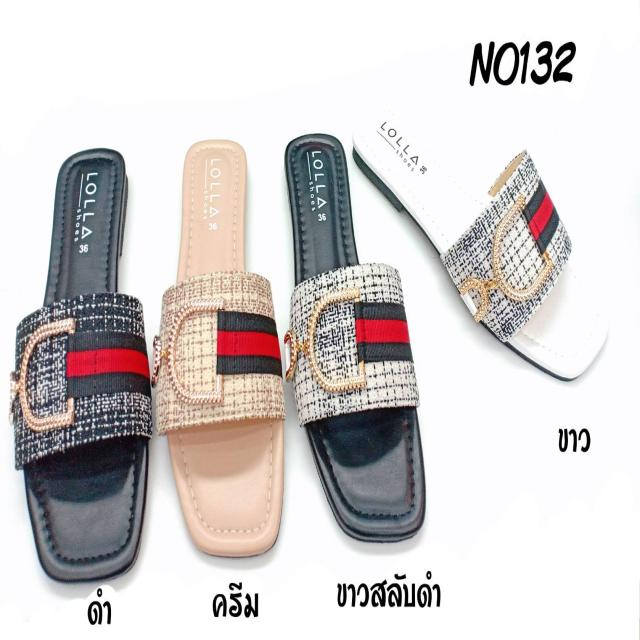black: (13, 148, 148, 572)
cream: (169, 142, 285, 552)
white: (351, 104, 611, 387)
white-black: (282, 132, 424, 544)
